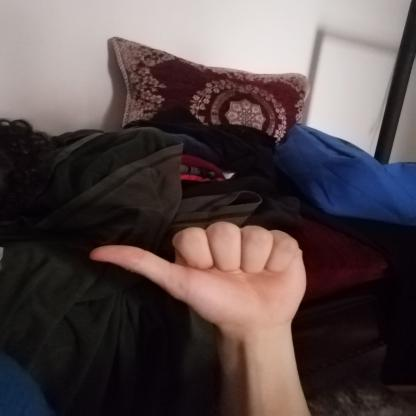DAD: (74, 214, 321, 338)
